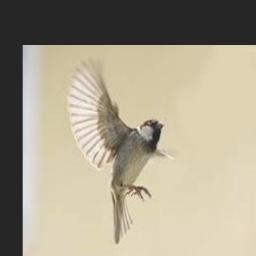Sparrow: (68, 55, 173, 243)
